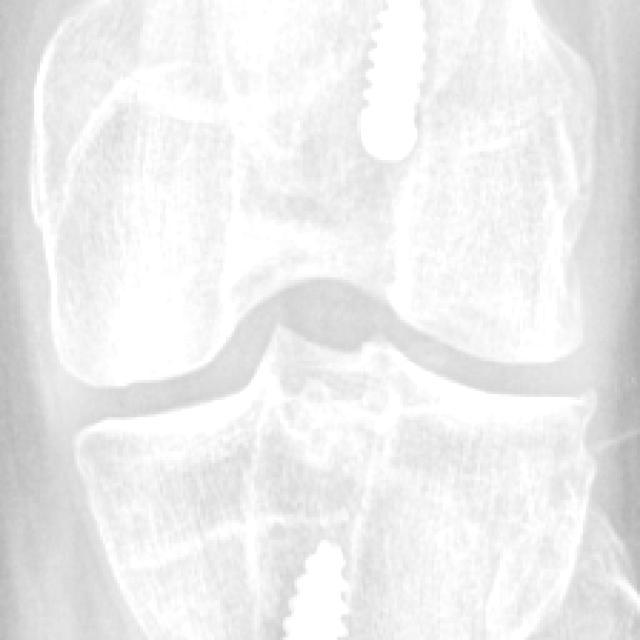femur: (29, 0, 597, 388)
tibia: (76, 324, 598, 640)
